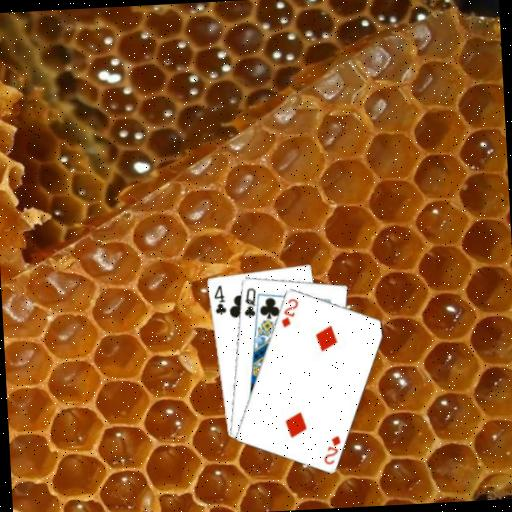2D: (277, 295, 302, 329), (319, 432, 343, 467)
4C: (210, 282, 228, 317)
QC: (240, 285, 258, 320)
